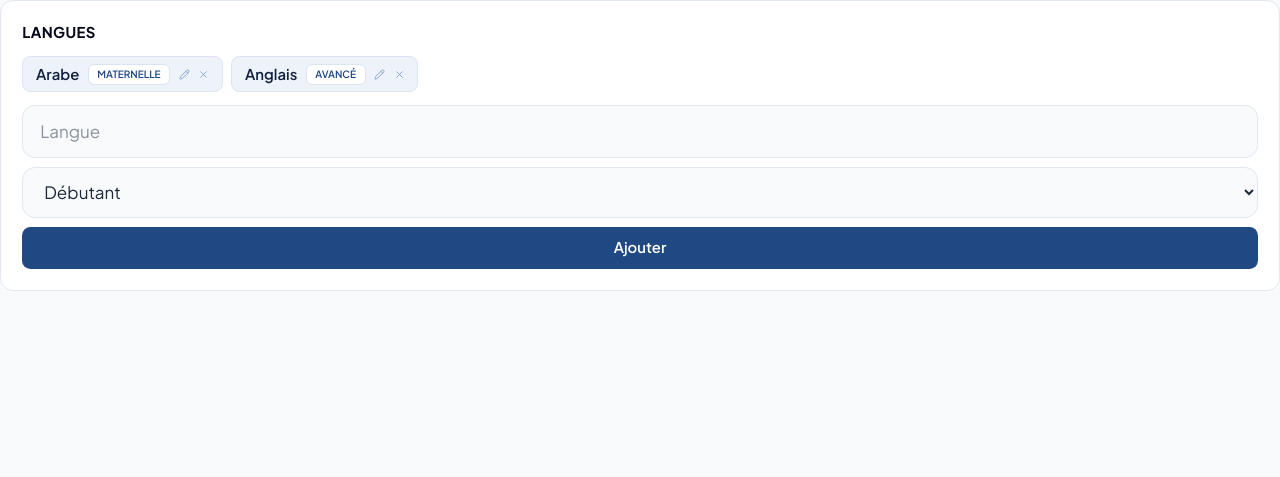
Test: SidebarLangues › garde un niveau du CV absent de la liste tel quel et permet d'annuler
The width and height of the screenshot is (1280, 477).
Click the button named "Modifier la langue Arabe" at (184, 74), box [179,69,190,80]
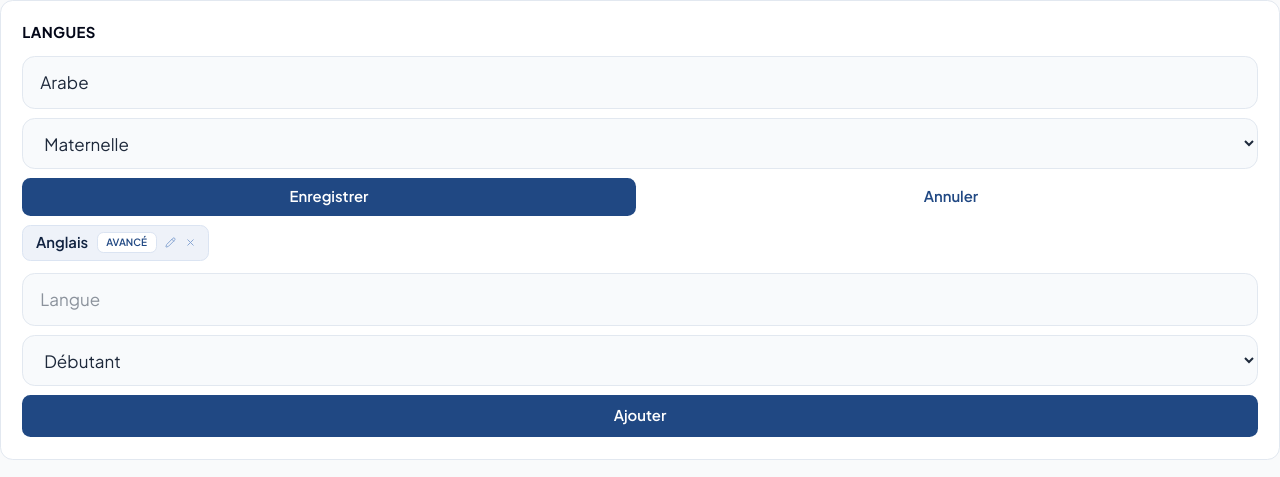
Now the dropdown named "Niveau de la langue" shows "Maternelle", box [22,118,1258,169]
Click the button "Annuler" at (951, 197), box [644,178,1258,216]
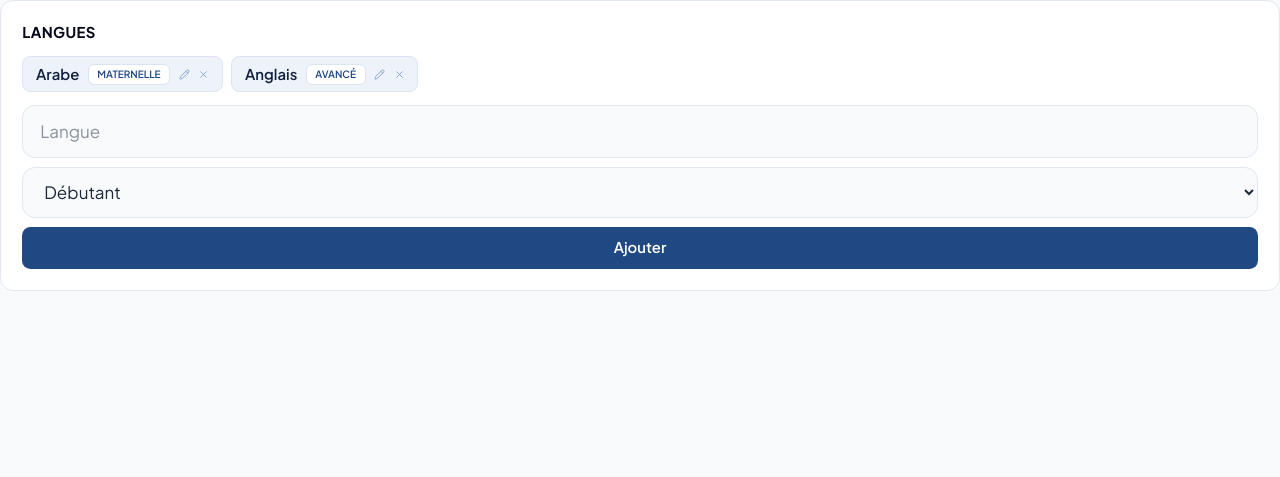
Now the button named "Modifier la langue Arabe" is shown, box [179,69,190,80]
